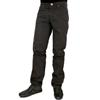abbigliamento_uomo: (30, 3, 67, 86)
